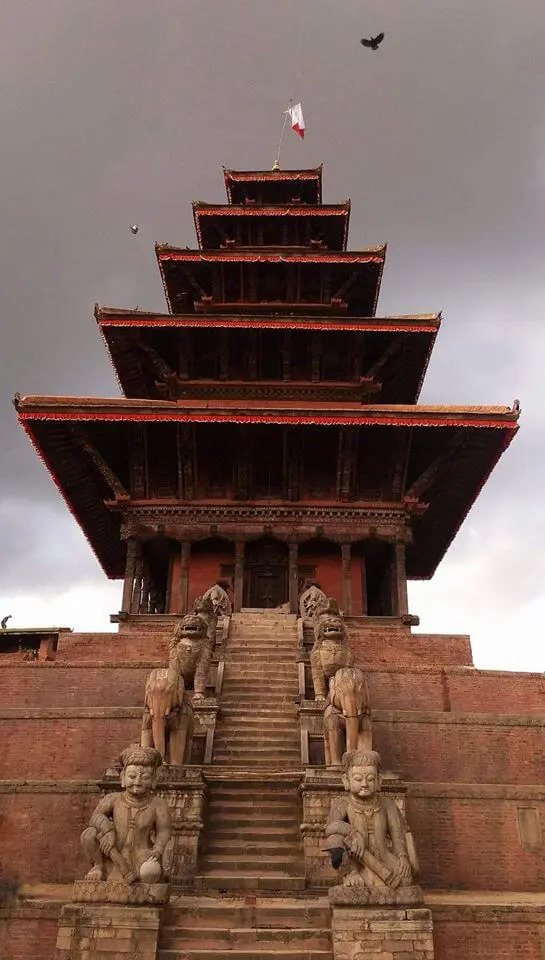nyathapola: (21, 7, 488, 953)
